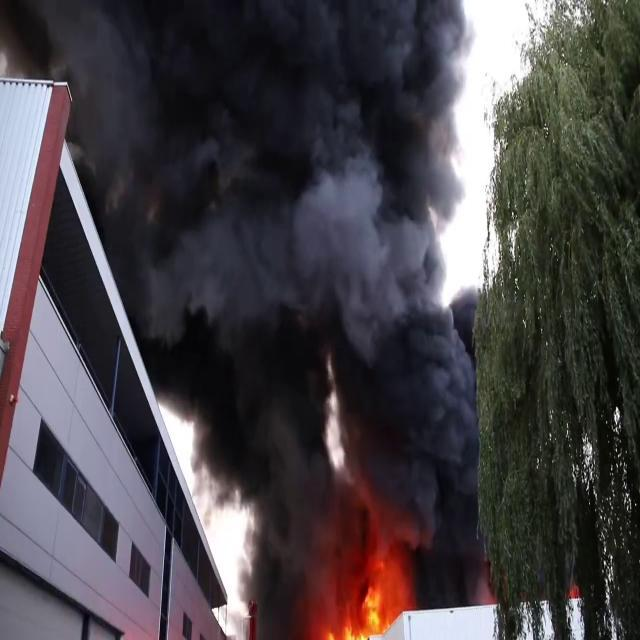Fire: (317, 528, 419, 636)
Smoke: (49, 1, 487, 564)
